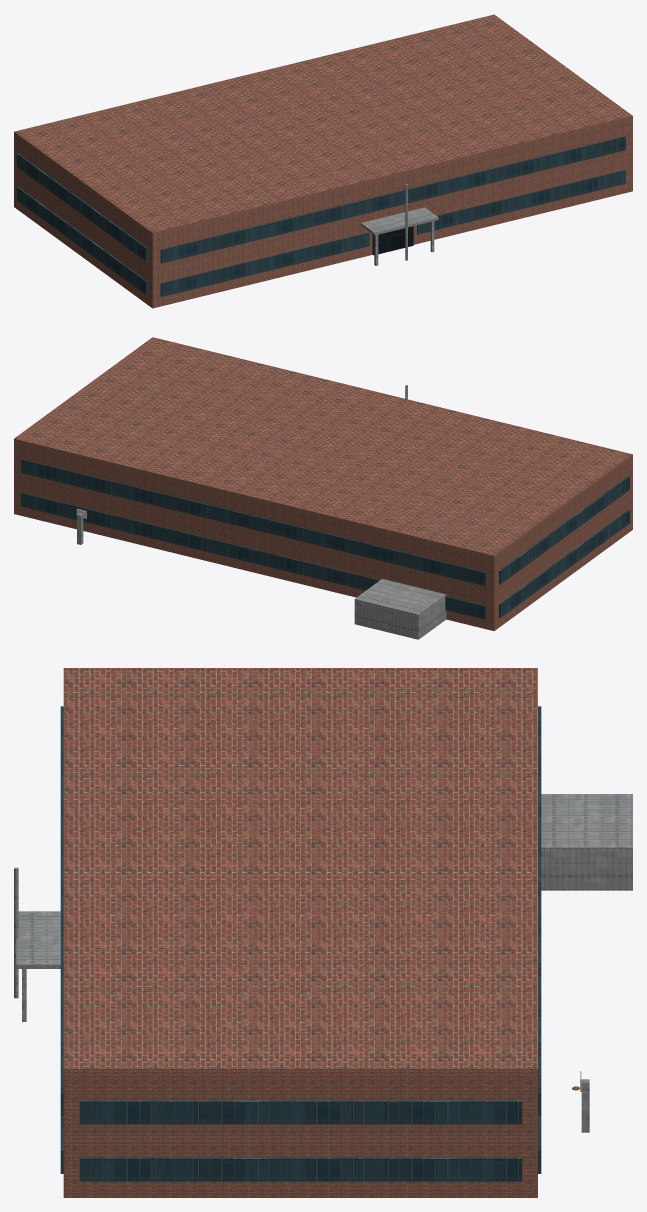
File: elementary-school_lod0.gltf
3 renders of one model, top to bottom at view 1: azimuth 30°, elevation 25°; view 2: azimuth 150°, elevation 25°; view 3: azimuth 270°, elevation 25°, orthographic. The views are drawn at different scales.
Parts seen in each view (by area): view 1: elementary-school_main, elementary-school_fen_07-glass-curtain-blue_0, elementary-school__entry_canopy, elementary-school_fen_07-glass-curtain-blue_1_t; view 2: elementary-school_main, elementary-school_fen_07-glass-curtain-blue_0, elementary-school__playground; view 3: elementary-school_main, elementary-school_fen_07-glass-curtain-blue_0, elementary-school__playground, elementary-school__entry_canopy.
Boxes of the visible parts, box(x1,y1,x2,y2) form: elementary-school_main: box(14, 14, 632, 308); elementary-school_fen_07-glass-curtain-blue_0: box(17, 136, 625, 296); elementary-school__entry_canopy: box(360, 207, 438, 235); elementary-school_fen_07-glass-curtain-blue_1_t: box(372, 226, 413, 255); elementary-school_main: box(14, 337, 632, 630); elementary-school_fen_07-glass-curtain-blue_0: box(21, 459, 629, 619); elementary-school__playground: box(354, 579, 446, 639); elementary-school_main: box(63, 668, 537, 1197); elementary-school_fen_07-glass-curtain-blue_0: box(60, 706, 541, 1181); elementary-school__playground: box(541, 794, 632, 890); elementary-school__entry_canopy: box(16, 911, 60, 968).
Size of the model in its own units: 60.4 by 9 by 39.15.
